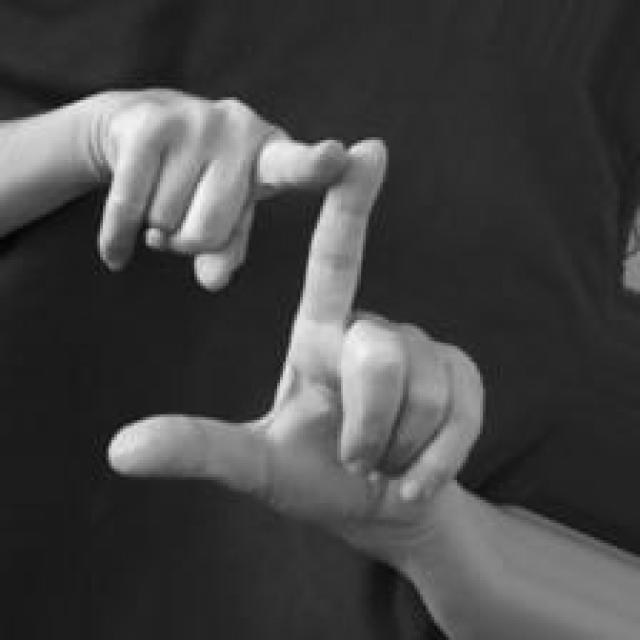J: (52, 84, 493, 541)
